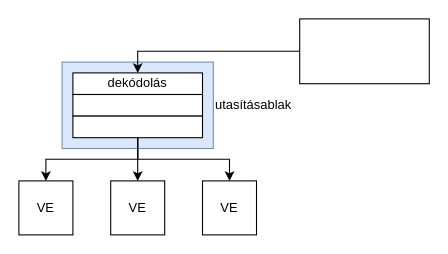
This 448x254 diagram has some shape labels left out. Each missing label, with the box of its shape:
függőség ellenőrzés: (72, 93, 202, 116)
kibocsátás: (72, 115, 202, 138)
utasítás cache: (299, 18, 429, 84)
